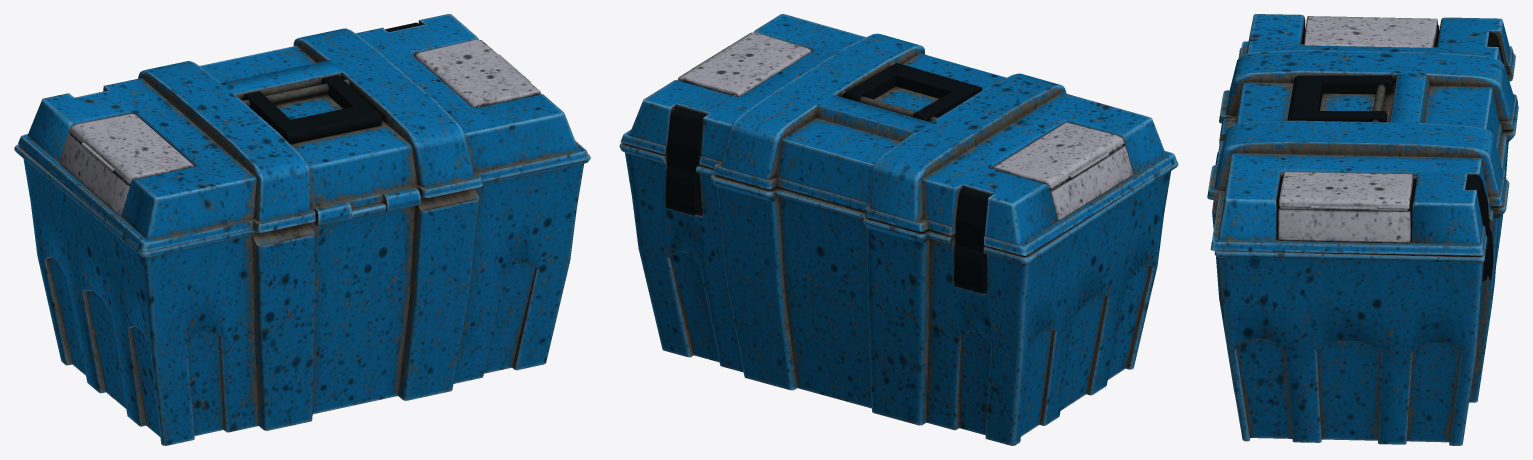
Rendered from tool_box.glb.
The picture shows the model from 3 angles, left to right: view 1: azimuth 30°, elevation 25°; view 2: azimuth 150°, elevation 25°; view 3: azimuth 270°, elevation 25°; orthographic projection. The views are drawn at different scales.
Visible parts, largest first — view 1: Object_2, Object_3, Object_4, Object_5; view 2: Object_2, Object_3, Object_4; view 3: Object_2, Object_3, Object_4.
Part boxes in pixels (box(x1,y1,x2,y2)): Object_2: box(14, 14, 590, 445); Object_3: box(27, 40, 541, 239); Object_4: box(80, 22, 420, 143); Object_5: box(242, 79, 349, 107); Object_2: box(619, 14, 1178, 445); Object_3: box(677, 32, 1165, 245); Object_4: box(665, 63, 991, 293); Object_2: box(1207, 25, 1518, 445); Object_3: box(1246, 14, 1514, 242); Object_4: box(1287, 33, 1503, 281).
Size of the model in its own units: 1.84 by 1.06 by 1.15.
3 materials, 3 textured.
